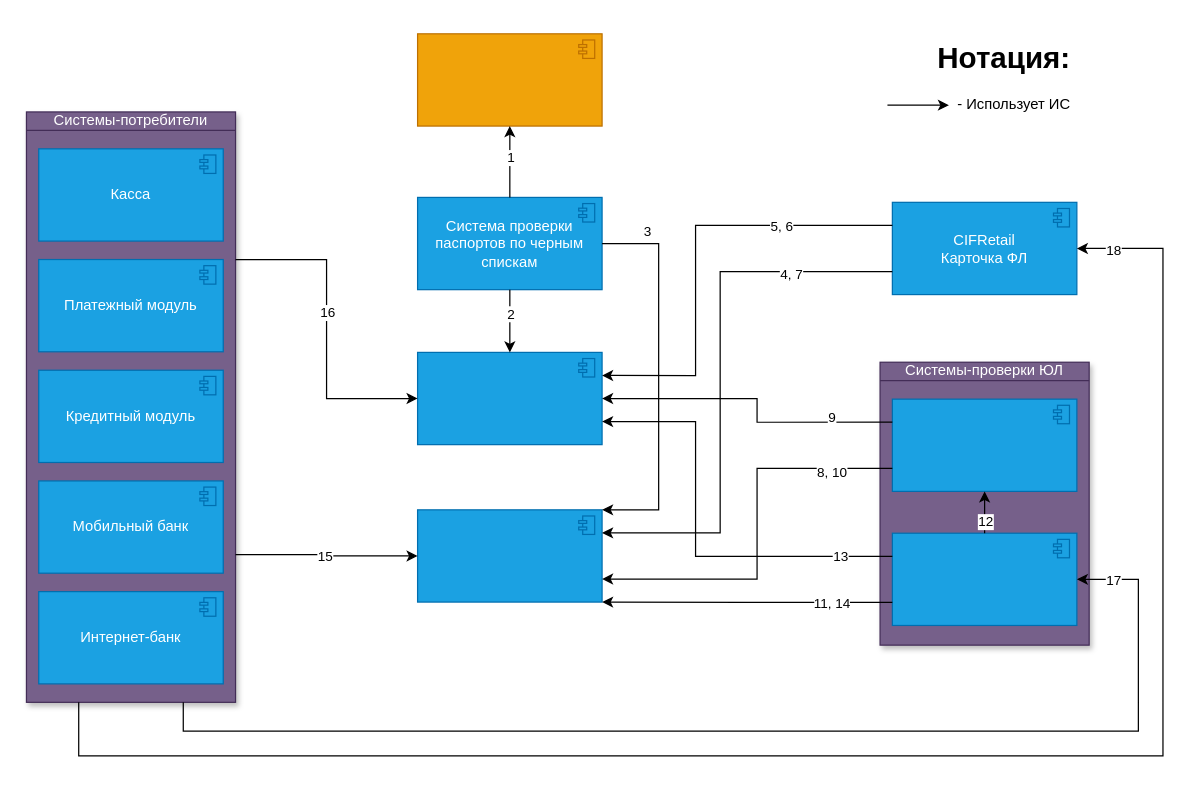
The diagram is 1194 pixels wide and 787 high, and some of its shapes have lost their labels. Each missing label, with the centre of its shape:
CIFCorporate Карточка ЮЛ: pixel 984 578
ИС МВД РФ черные списки паспортов: pixel 509 79
Каталог бизнес-событий: pixel 509 555
Платформа данных: pixel 509 398
Связи ЮЛ: pixel 984 444
